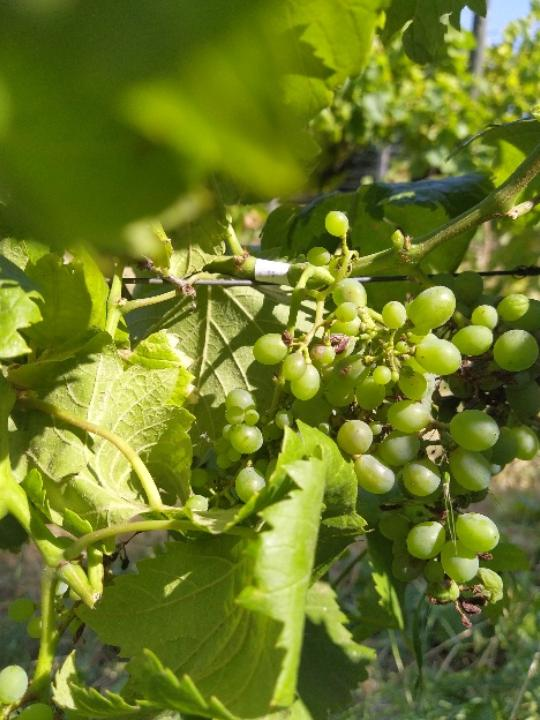grape: (193, 209, 540, 631)
